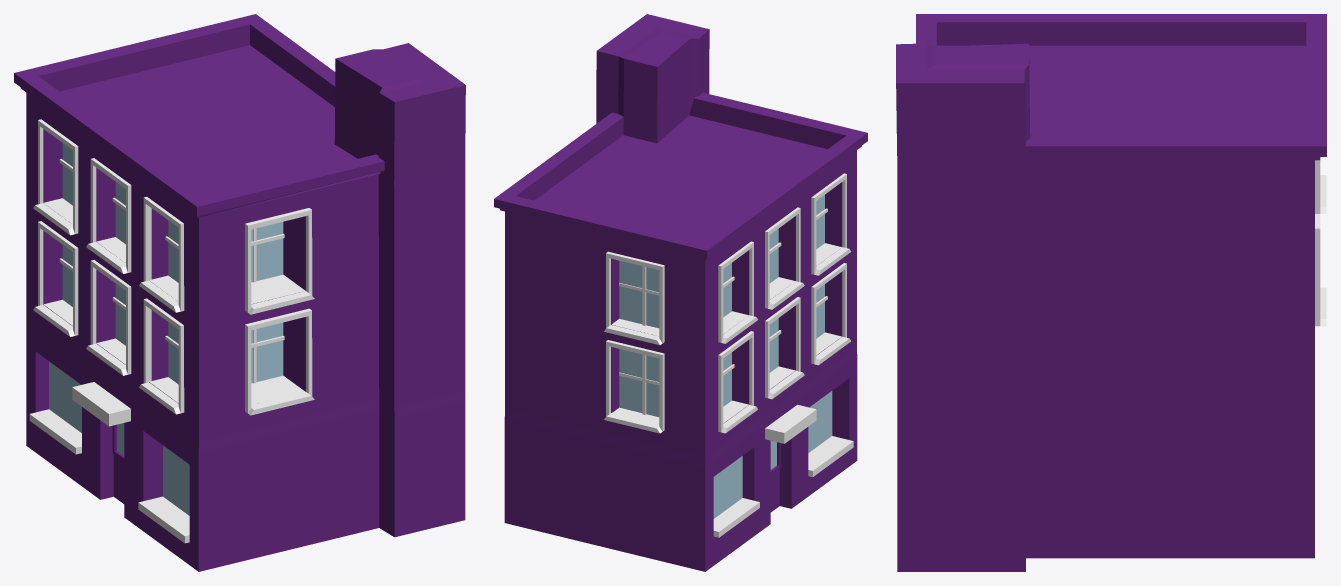
The model's file is Haus05.fbx.
The picture shows the model from 3 angles, left to right: view 1: azimuth 30°, elevation 25°; view 2: azimuth 150°, elevation 25°; view 3: azimuth 270°, elevation 25°; orthographic projection. The views are drawn at different scales.
Visible parts, largest first — view 1: Cube; view 2: Cube; view 3: Cube.
Boxes of the visible parts, bbox=[...] form: Cube: bbox=[14, 14, 465, 571]; Cube: bbox=[494, 14, 867, 571]; Cube: bbox=[896, 14, 1326, 571].
Bounding box in the file's own units: 411 × 623 × 497.
